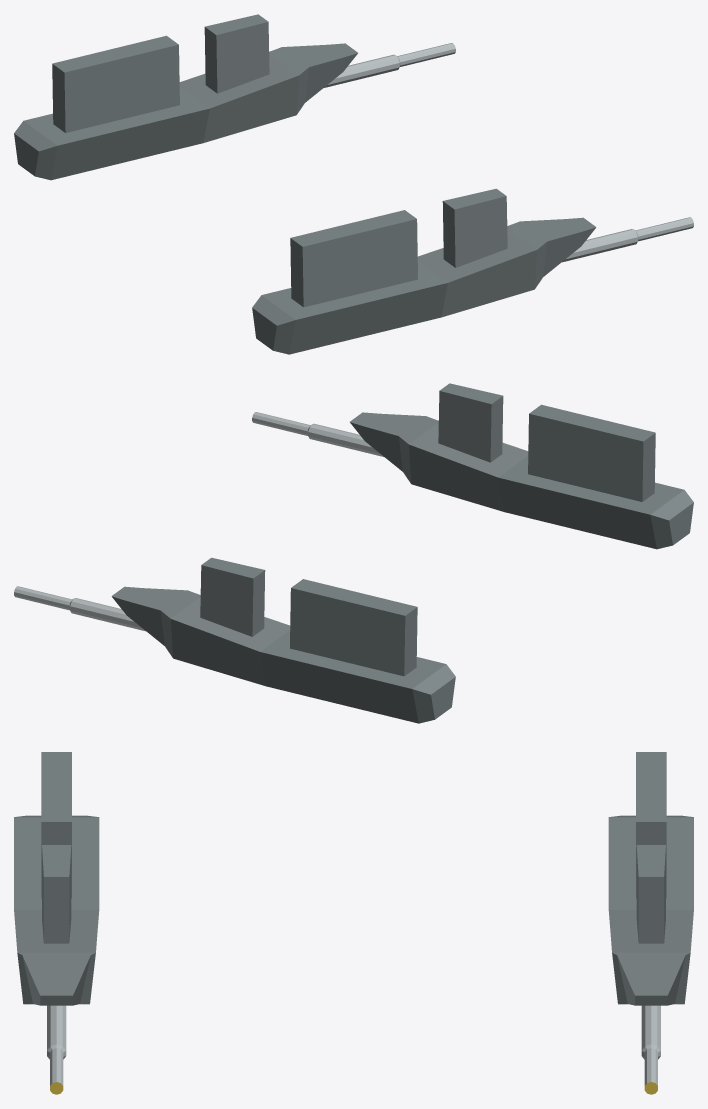
Rendered from gunpod_dual.fbx.
3 renders of one model, top to bottom at view 1: azimuth 30°, elevation 25°; view 2: azimuth 150°, elevation 25°; view 3: azimuth 270°, elevation 25°, orthographic. The views are drawn at different scales.
Visible parts, largest first — view 1: Cube.003; view 2: Cube.003; view 3: Cube.003.
Boxes of the visible parts, x1=… form: Cube.003: x1=14, y1=14, x2=693, y2=354; Cube.003: x1=14, y1=383, x2=693, y2=723; Cube.003: x1=14, y1=752, x2=693, y2=1094.
Bounding box in the file's own units: 143 × 32.01 × 158.
